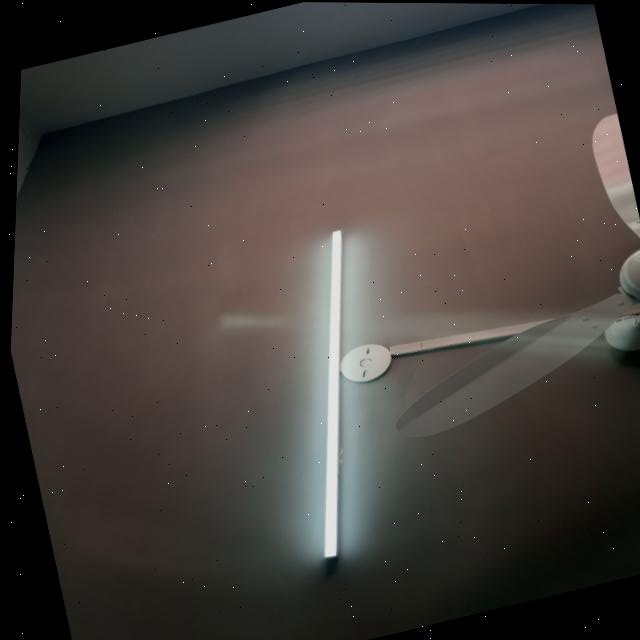fluorescent tube: (237, 223, 420, 567)
